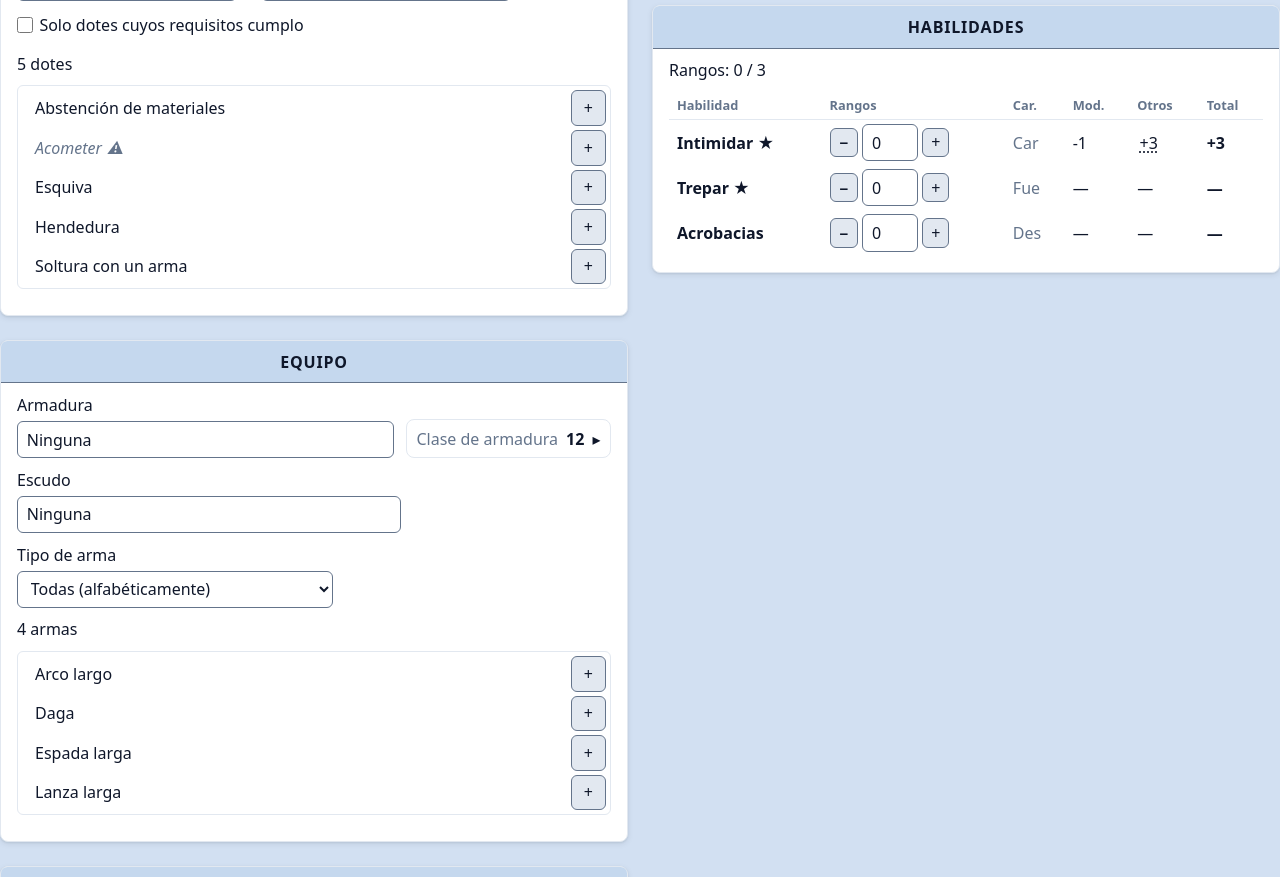
Test: CharacterEditor › recomputes the Equipo section's AC when equipment changes (autofill via /derive)
This screenshot has width=1280, height=877.
(page scrolled)
Check: the button "Clase de armadura 12 ▸" is shown, box [407,420,610,457]
Click the dropdown labelled "Armadura": click(205, 440) [17,421,394,458]
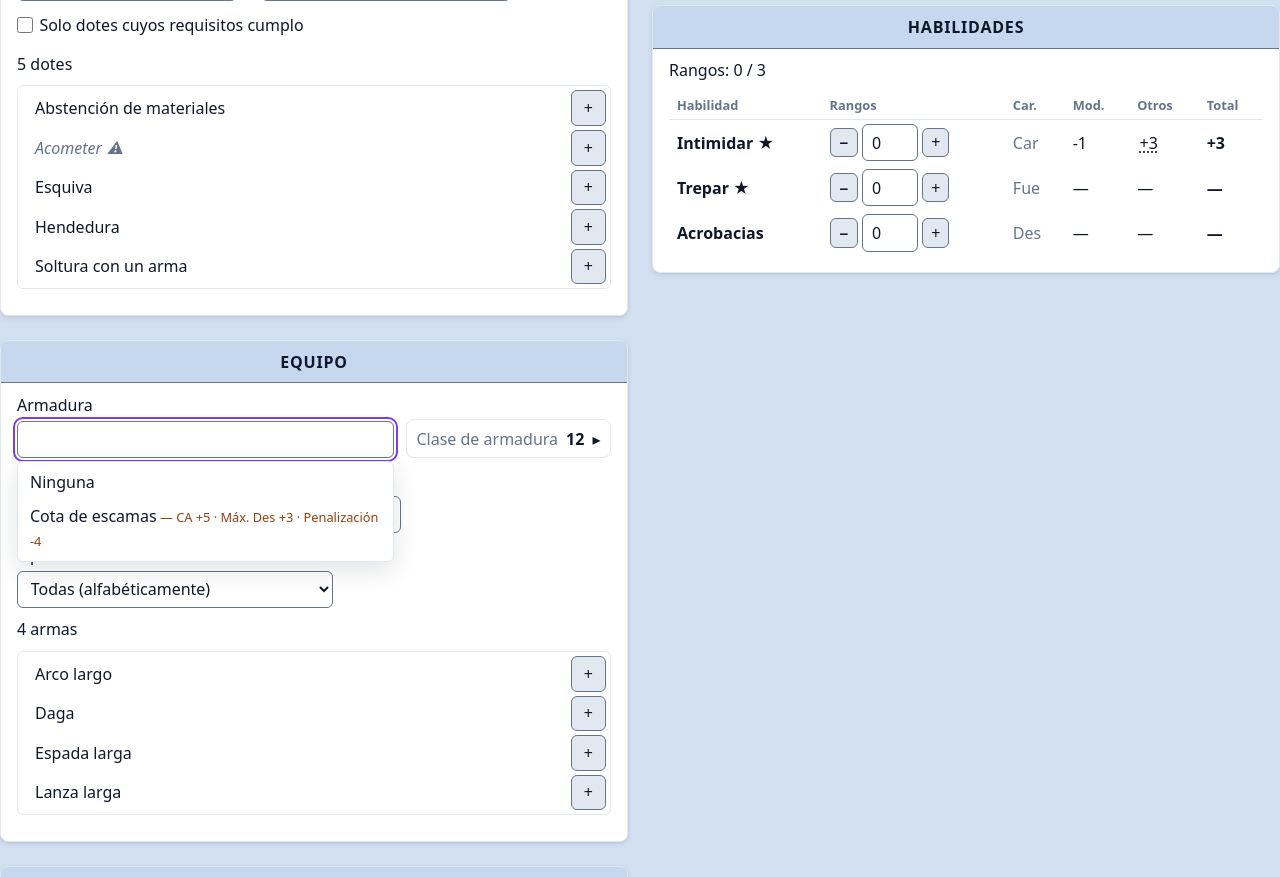
The option's accessible name includes its stat-line hint, hence the regex.
Click the option "Cota de escamas — CA +5 · Máx. Des +3 · Penalización -4": click(205, 528) [22,499,389,557]
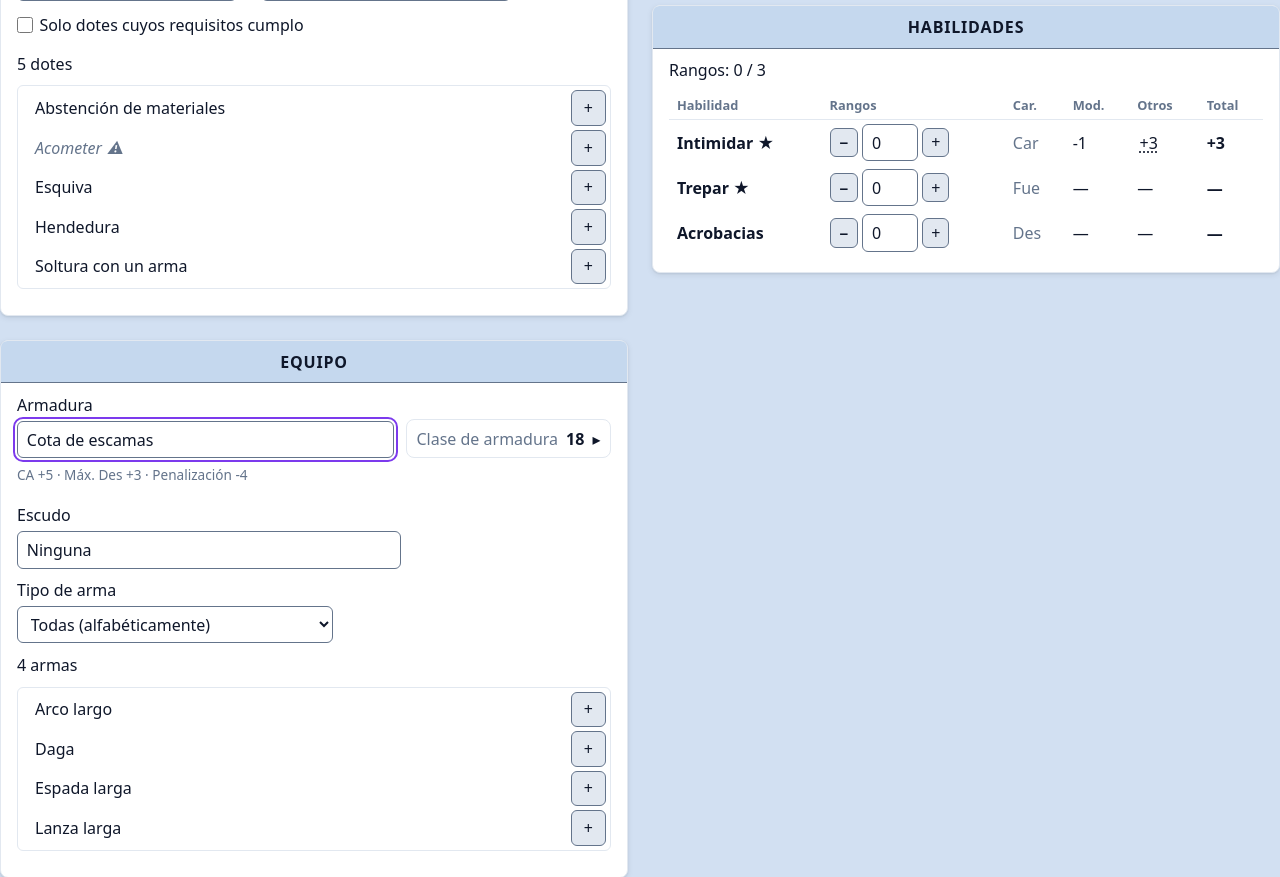
Check: the button "Clase de armadura 18 ▸" is shown, box [407,420,610,457]
